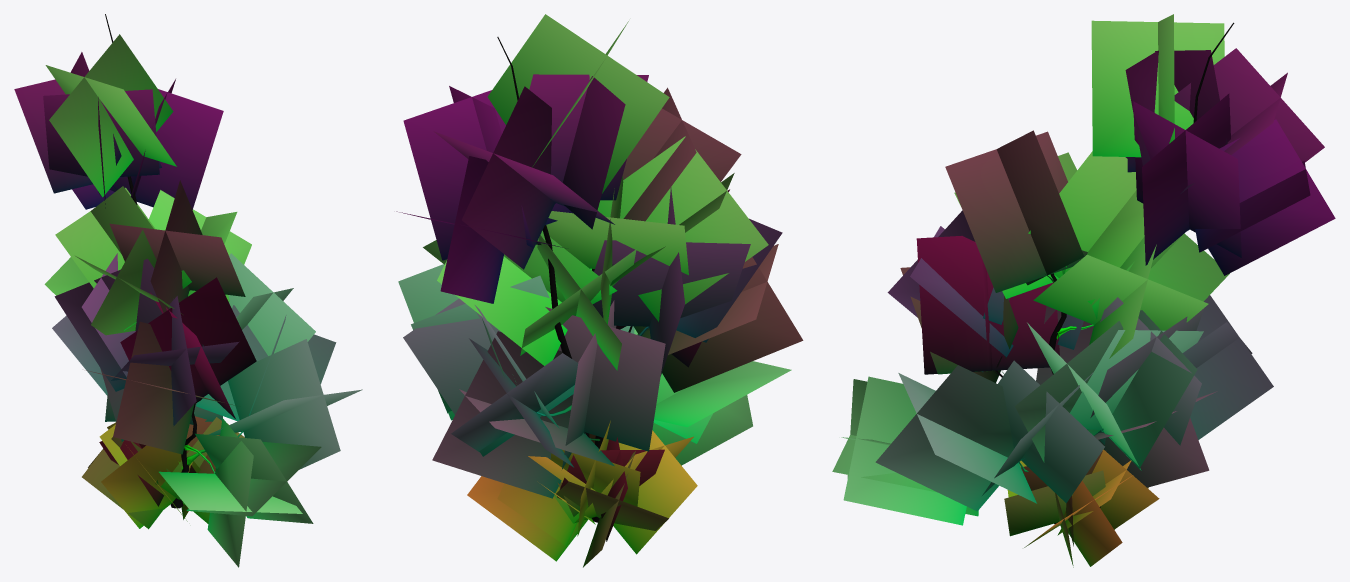
Rendered from M_P12_Tree_12.fbx.
3 renders of one model, left to right at view 1: azimuth 30°, elevation 25°; view 2: azimuth 150°, elevation 25°; view 3: azimuth 270°, elevation 25°, orthographic. The views are drawn at different scales.
Visible parts, largest first — view 1: Tree_12; view 2: Tree_12; view 3: Tree_12.
Boxes of the visible parts, <box> form: Tree_12: <box>14,14,362,567</box>; Tree_12: <box>396,14,803,567</box>; Tree_12: <box>832,14,1335,567</box>.
Size of the model in its own units: 168 by 293 by 249.
